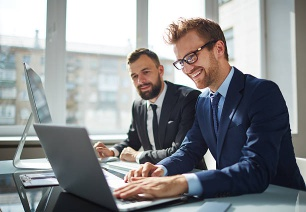male: (169, 21, 237, 89), (120, 46, 170, 114)
